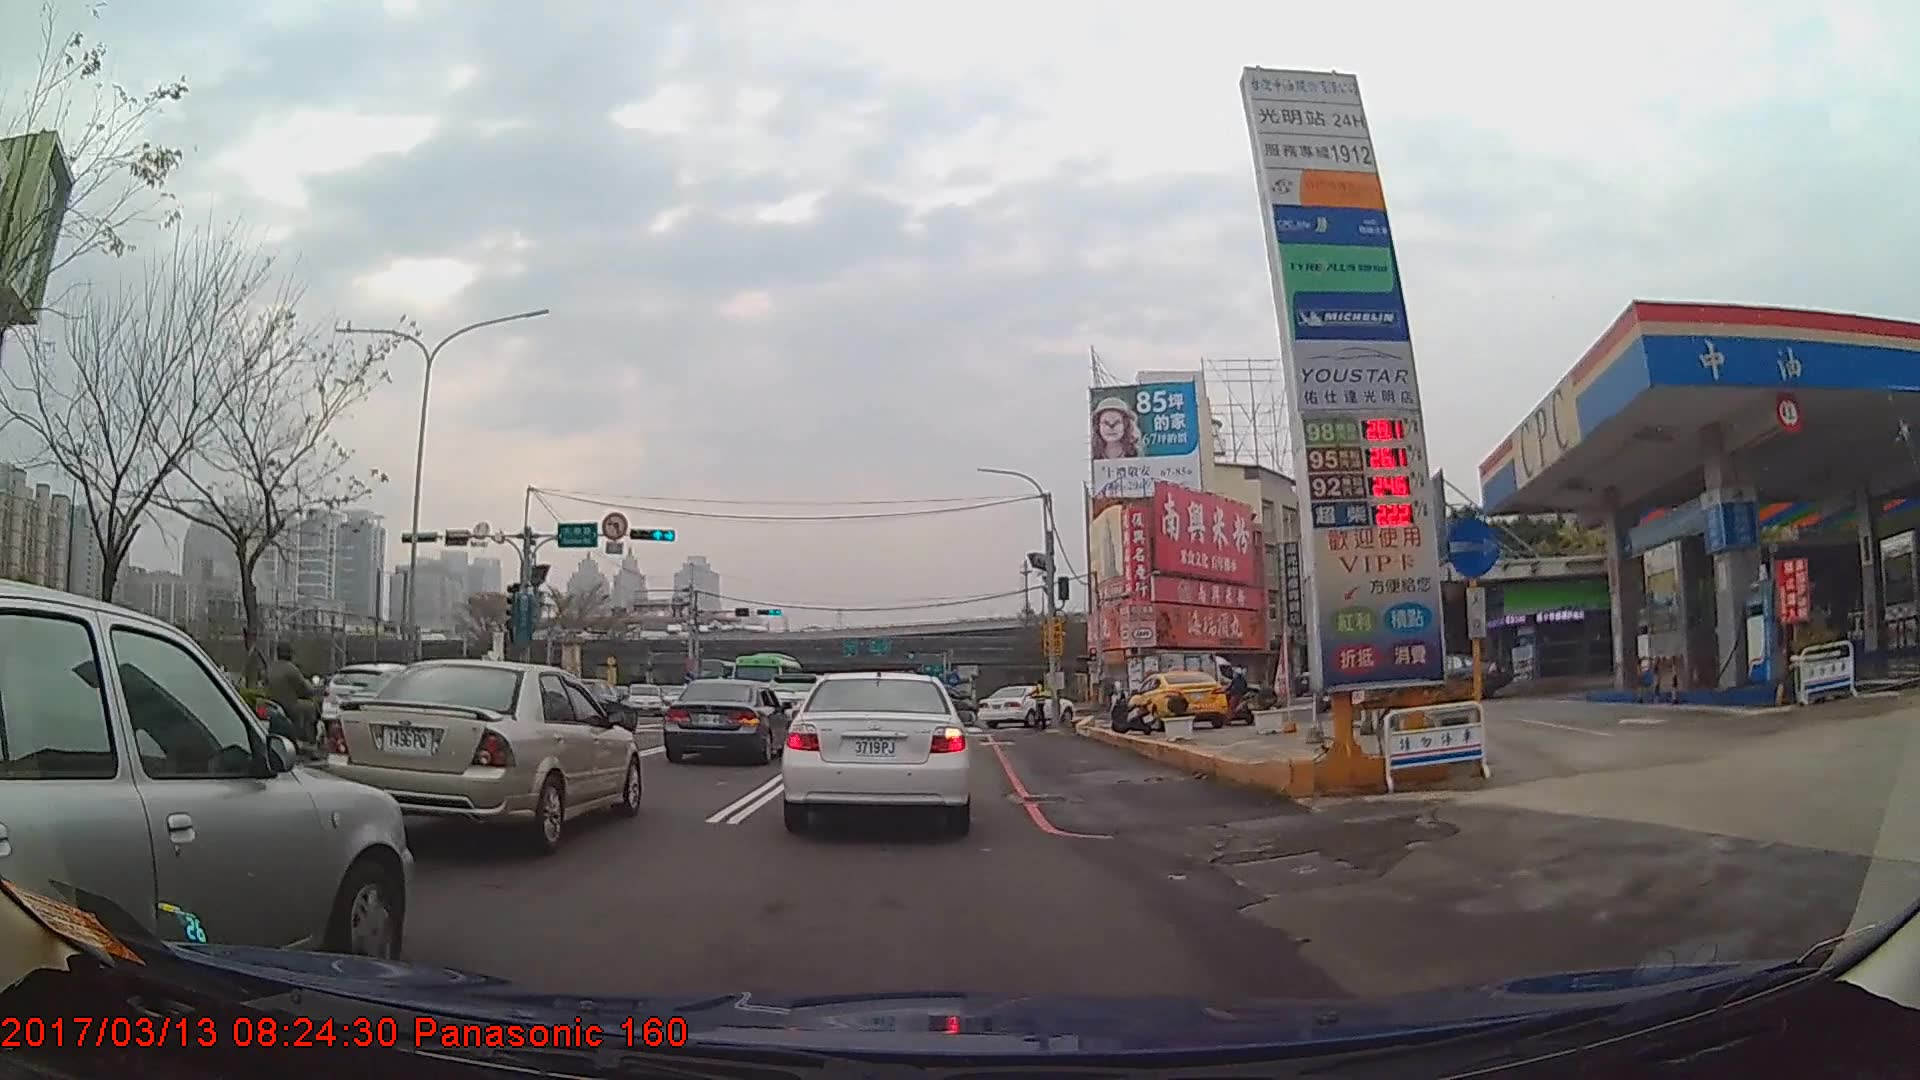pedestrian: (1024, 679, 1049, 732)
rider: (146, 625, 235, 779), (250, 641, 327, 765), (1325, 657, 1367, 719), (1220, 668, 1257, 728)
vehicle: (0, 577, 412, 997), (328, 659, 643, 854), (784, 667, 970, 834), (663, 677, 790, 765), (1122, 648, 1236, 713), (1130, 669, 1232, 729), (976, 682, 1074, 729), (729, 651, 805, 710)
